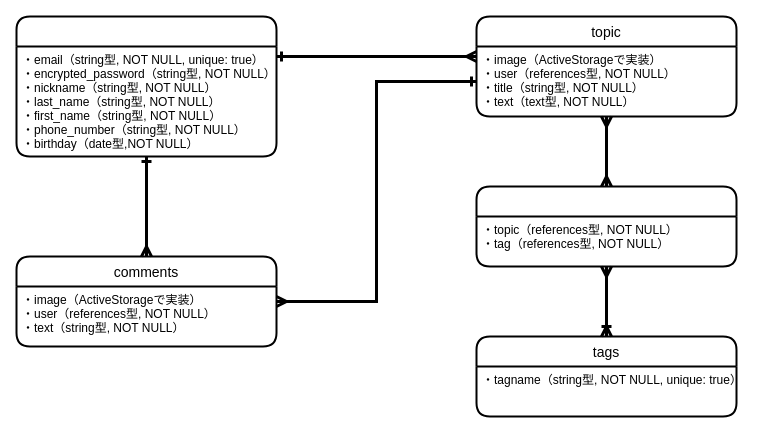
Image size: 758x433. Some labels were removed from this diagram. Here are the shapes that lost their labels. From the top down, the box of each, then its label:
(15, 15, 277, 157): user
(475, 185, 737, 267): topic_tag_relations
